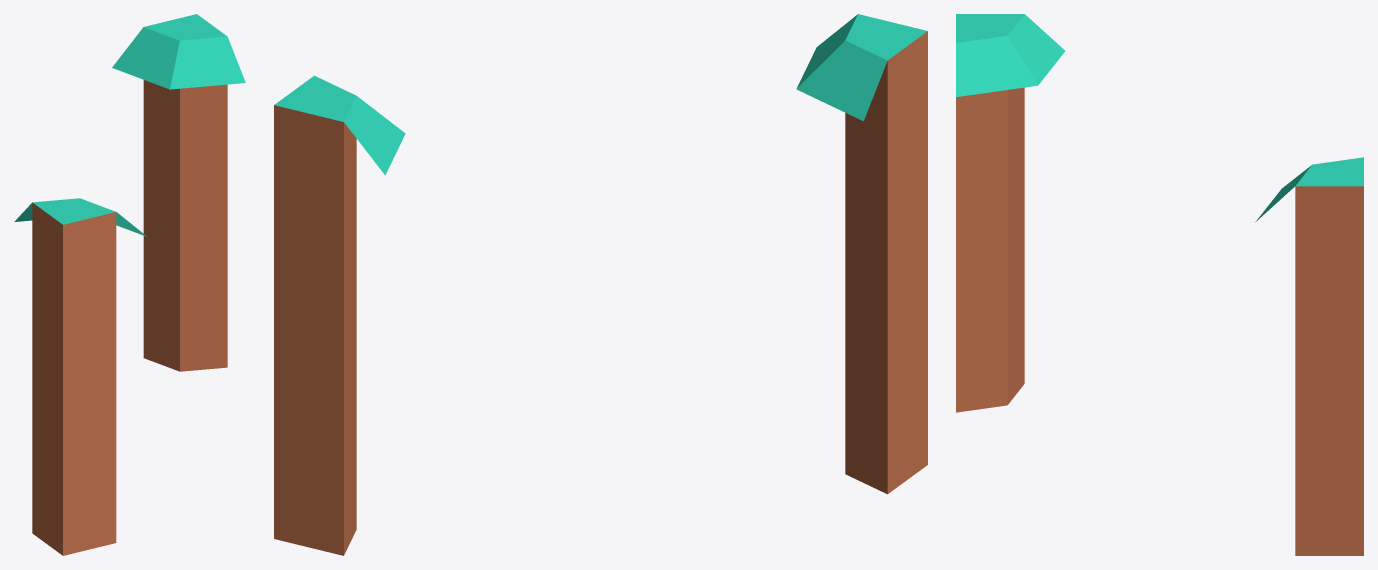
The model's file is hill_cornersDiag.obj.
3 renders of one model, left to right at view 1: azimuth 30°, elevation 25°; view 2: azimuth 150°, elevation 25°; view 3: azimuth 270°, elevation 25°, orthographic. The views are drawn at different scales.
Parts seen in each view (by area): view 1: cliff_cornerTop_rock, cliff_cornerTop_rock.001; view 2: cliff_cornerTop_rock.001, cliff_cornerTop_rock; view 3: cliff_cornerTop_rock.001, cliff_cornerTop_rock.
Part boxes in pixels (bbox=[...]): cliff_cornerTop_rock: bbox=[112, 14, 245, 371]; cliff_cornerTop_rock.001: bbox=[14, 198, 147, 555]; cliff_cornerTop_rock.001: bbox=[796, 14, 927, 494]; cliff_cornerTop_rock: bbox=[274, 75, 405, 555]; cliff_cornerTop_rock.001: bbox=[956, 14, 1064, 412]; cliff_cornerTop_rock: bbox=[1255, 157, 1363, 555].
Size of the model in its own units: 1 by 1 by 1.
